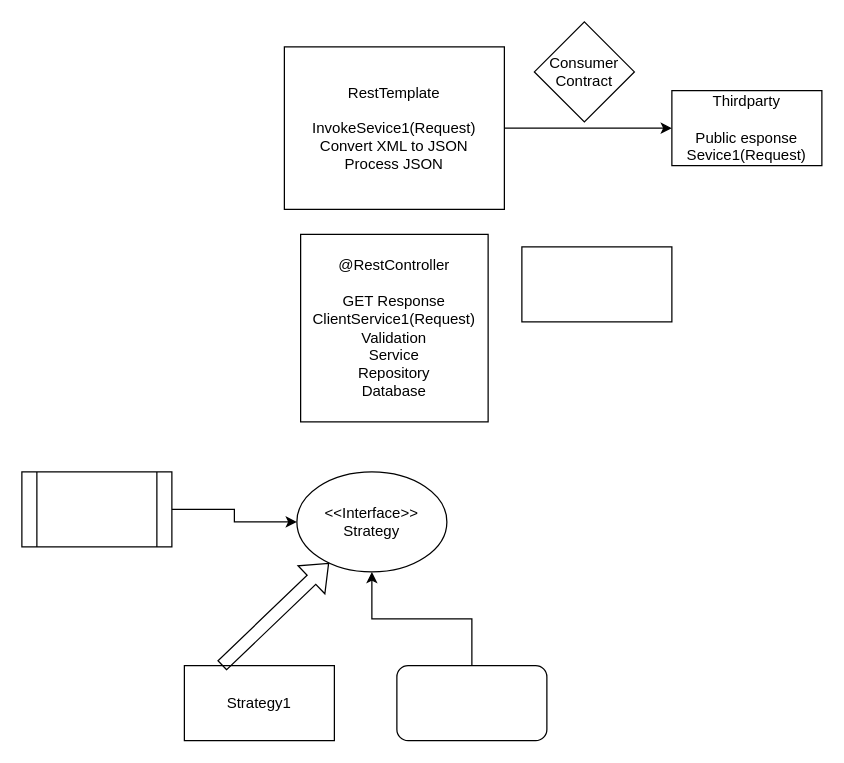
Some shapes in this 844 by 763 pixel diagram are drawn without their labels. Here are the shapes that lost their labels. From the top down, the centre of each, then its label:
point 596,284: GET POST PUT DELETE
point 96,509: Context Swithing
point 471,702: Strategy2
